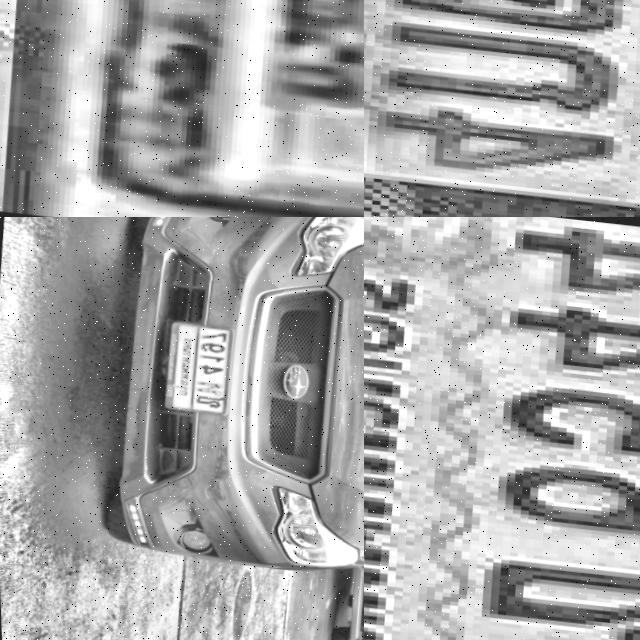license-plate: (364, 217, 640, 640), (364, 0, 640, 217), (96, 0, 364, 217), (159, 319, 234, 414), (359, 592, 364, 618)
